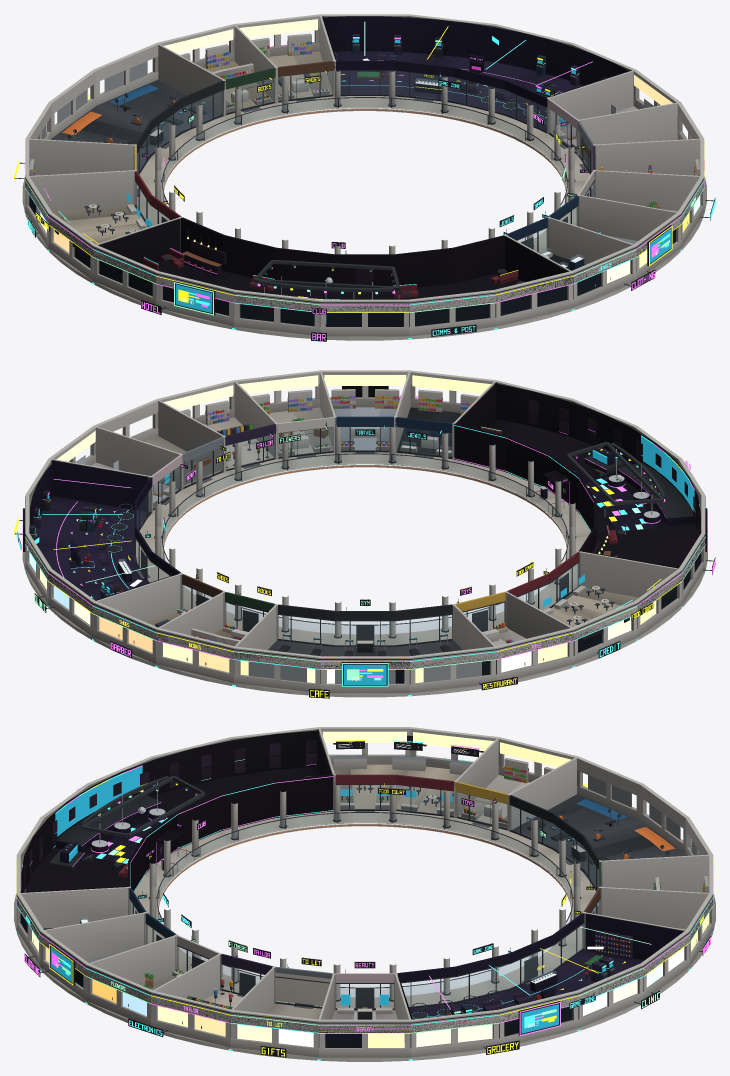
File: dome_floor2.glb
3 views of the same model, one above another, from view 1: azimuth 30°, elevation 25°; view 2: azimuth 150°, elevation 25°; view 3: azimuth 270°, elevation 25° (orthographic). The views are drawn at different scales.
Parts seen in each view (by area): view 1: Struct_2, Venue_club, Venue_arcade, Shell_2, Venue_gym, Venue_foodcourt, Lamps_2, Venue_shoes, Venue_books, Venue_jewels, VenueLamps_arcade, Venue_beauty (+5 smaller); view 2: Struct_2, Venue_club, Venue_arcade, Shell_2, Venue_gym, Venue_foodcourt, Venue_travel, Venue_flowers, Venue_jewels, Lamps_2, Venue_tailor, VenueLamps_club (+11 smaller); view 3: Struct_2, Venue_club, Shell_2, Venue_arcade, Venue_gym, Venue_foodcourt, Lamps_2, VenueLamps_club, Venue_toys, Venue_vacant, Venue_beauty, VenueLamps_foodcourt (+5 smaller).
Boxes of the visible parts, x1=… form: Struct_2: x1=22, y1=14, x2=706, y2=340; Venue_club: x1=98, y1=217, x2=568, y2=325; Venue_arcade: x1=322, y1=16, x2=631, y2=133; Shell_2: x1=14, y1=97, x2=713, y2=339; Venue_gym: x1=37, y1=61, x2=225, y2=174; Venue_foodcourt: x1=30, y1=170, x2=184, y2=256; Lamps_2: x1=14, y1=44, x2=715, y2=341; Venue_shoes: x1=251, y1=33, x2=336, y2=102; Venue_books: x1=180, y1=44, x2=278, y2=115; Venue_jewels: x1=499, y1=215, x2=610, y2=286; VenueLamps_arcade: x1=341, y1=21, x2=592, y2=123; Venue_beauty: x1=533, y1=97, x2=654, y2=155; Struct_2: x1=22, y1=370, x2=707, y2=697; Venue_club: x1=454, y1=382, x2=701, y2=568; Venue_arcade: x1=29, y1=460, x2=183, y2=607; Shell_2: x1=15, y1=386, x2=713, y2=696; Venue_gym: x1=248, y1=599, x2=481, y2=683; Venue_foodcourt: x1=504, y1=551, x2=673, y2=640; Venue_travel: x1=331, y1=389, x2=399, y2=453; Venue_flowers: x1=251, y1=389, x2=336, y2=459; Venue_jewels: x1=393, y1=389, x2=479, y2=459; Lamps_2: x1=14, y1=395, x2=715, y2=698; Venue_tailor: x1=180, y1=400, x2=278, y2=471; VenueLamps_club: x1=453, y1=425, x2=694, y2=553; Struct_2: x1=14, y1=727, x2=715, y2=1061; Venue_club: x1=20, y1=729, x2=333, y2=892; Shell_2: x1=16, y1=812, x2=713, y2=1060; Venue_arcade: x1=394, y1=912, x2=683, y2=1037; Venue_gym: x1=507, y1=775, x2=700, y2=891; Venue_foodcourt: x1=332, y1=735, x2=483, y2=817; Lamps_2: x1=22, y1=758, x2=713, y2=1057; VenueLamps_club: x1=25, y1=759, x2=333, y2=891; Venue_toys: x1=454, y1=758, x2=554, y2=830; Venue_vacant: x1=265, y1=957, x2=335, y2=1019; Venue_beauty: x1=324, y1=961, x2=405, y2=1046; VenueLamps_foodcourt: x1=323, y1=731, x2=493, y2=801.
Size of the model in its own units: 68.56 by 4.21 by 67.94.
